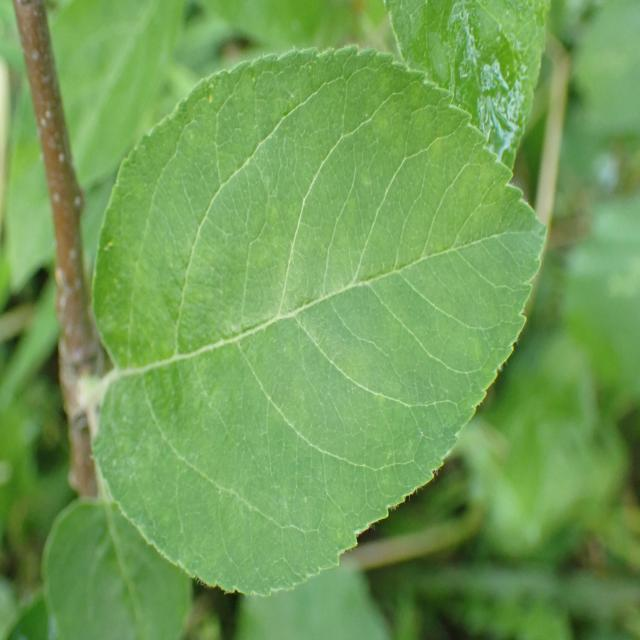scab: (85, 163, 531, 513)
